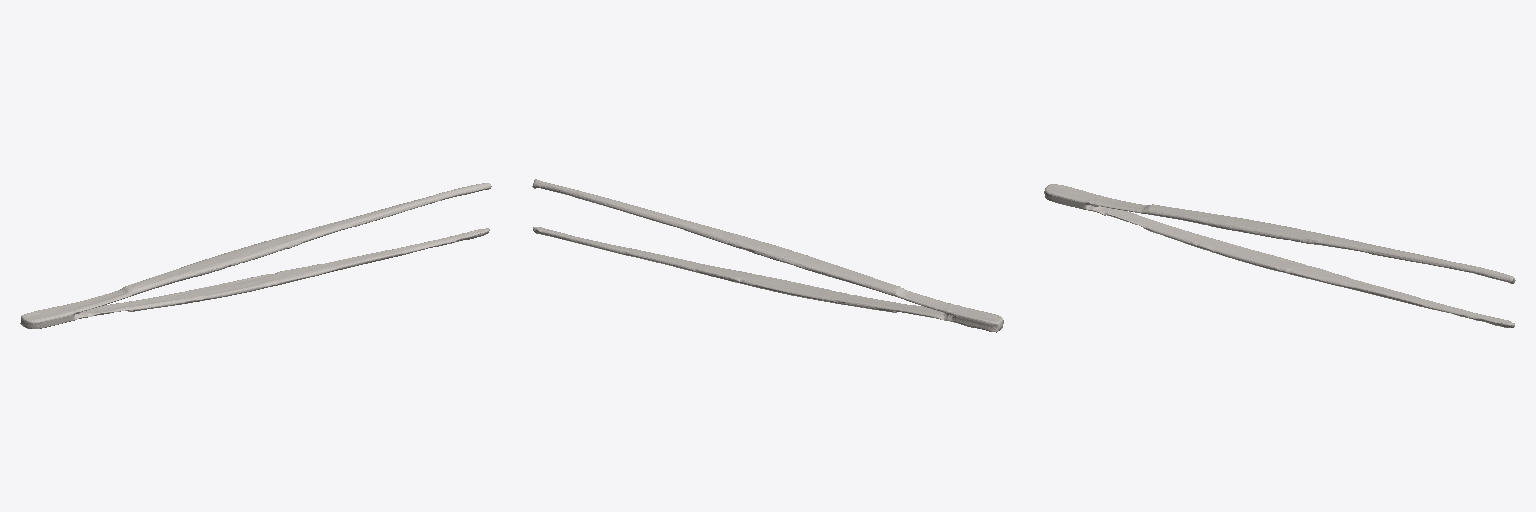
URDF robot description (Tooling_4):
<?xml version="1.0" encoding="utf-8"?>
<!-- This URDF was automatically created by SolidWorks to URDF Exporter! Originally created by Stephen Brawner (brawner@gmail.com)
     Commit Version: 1.6.0-4-g7f85cfe  Build Version: 1.6.7995.38578
     For more information, please see http://wiki.ros.org/sw_urdf_exporter -->
<robot
  name="Tooling_4">
  <link
    name="base_link">
    <inertial>
      <origin
        xyz="-0.00029928 7.6815E-05 0.00031694"
        rpy="0 0 0" />
      <mass
        value="0.077523" />
      <inertia
        ixx="5.6198E-06"
        ixy="-4.1831E-06"
        ixz="-1.6191E-06"
        iyy="0.00034219"
        iyz="-3.8097E-08"
        izz="0.00034685" />
    </inertial>
    <visual>
      <origin
        xyz="0 0 0"
        rpy="0 0 0" />
      <geometry>
        <mesh
          filename="../meshes/base_link.STL" />
      </geometry>
      <material
        name="">
        <color
          rgba="0.77647 0.75686 0.73725 1" />
      </material>
    </visual>
    <collision>
      <origin
        xyz="0 0 0"
        rpy="0 0 0" />
      <geometry>
        <mesh
          filename="../meshes/base_link.STL" />
      </geometry>
    </collision>
  </link>
</robot>

--- Facts derived from the render (not from the file) ---
3 views of the same robot in one strip: view 1: azimuth 30°, elevation 25°; view 2: azimuth 150°, elevation 25°; view 3: azimuth 330°, elevation 25° (orthographic).
Model Tooling_4 with 1 links and 0 joints (none), rooted at base_link, posed all joints at 0.
Visible links, largest first — view 1: base_link; view 2: base_link; view 3: base_link.
Boxes of the visible links, x1,y1,x2,y2 form: base_link: [20, 183, 491, 328]; base_link: [532, 179, 1003, 332]; base_link: [1044, 184, 1515, 327].
Bounding box of the posed robot: 0.2554 × 0.0118 × 0.0275 m (x, y, z).
Meshes: 1 distinct files referenced, 1 mesh visuals loaded (1 binary STL).
